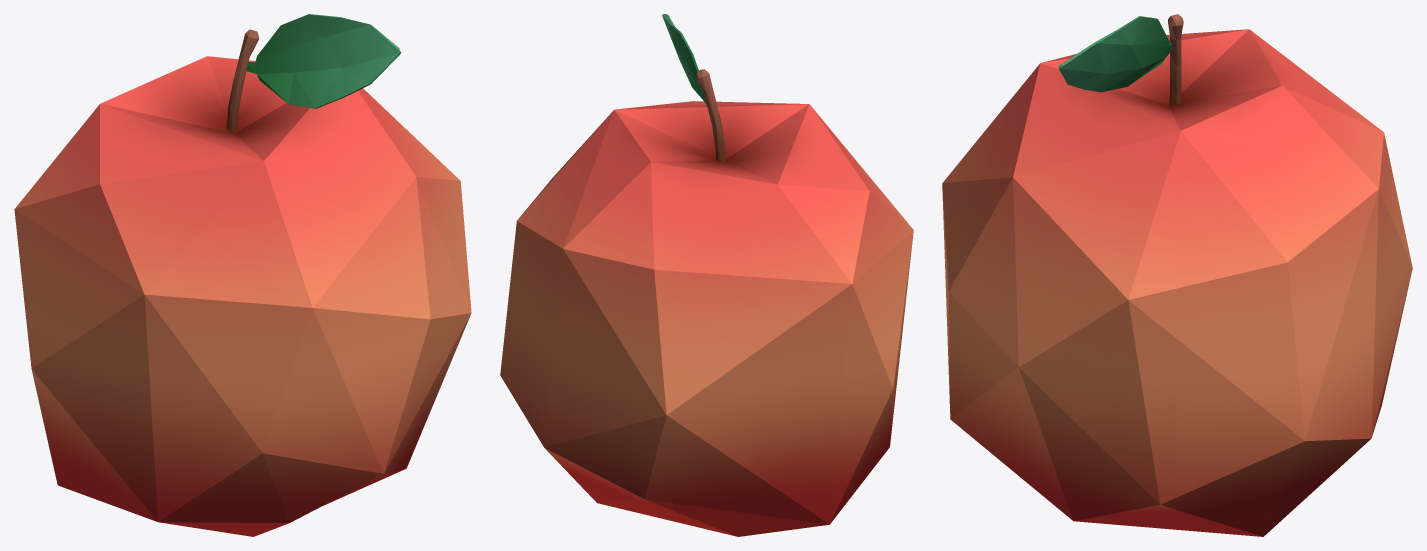
Rendered from apple.fbx.
3 views of the same model, side by side, from view 1: azimuth 30°, elevation 25°; view 2: azimuth 150°, elevation 25°; view 3: azimuth 270°, elevation 25° (orthographic). The views are drawn at different scales.
Visible parts, largest first — view 1: Sphere_1, Plane, Capsule_1; view 2: Sphere_1, Plane, Capsule_1; view 3: Sphere_1, Plane, Capsule_1.
Boxes of the visible parts, x1,y1,x2,y2 form: Sphere_1: [14, 56, 471, 536]; Plane: [246, 14, 401, 108]; Capsule_1: [226, 29, 259, 132]; Sphere_1: [500, 101, 913, 536]; Plane: [662, 14, 707, 106]; Capsule_1: [696, 69, 725, 161]; Sphere_1: [942, 29, 1412, 536]; Plane: [1058, 16, 1172, 92]; Capsule_1: [1168, 14, 1183, 105].
Bounding box in the file's own units: 168 × 196 × 162.
3 materials, 3 textured.
